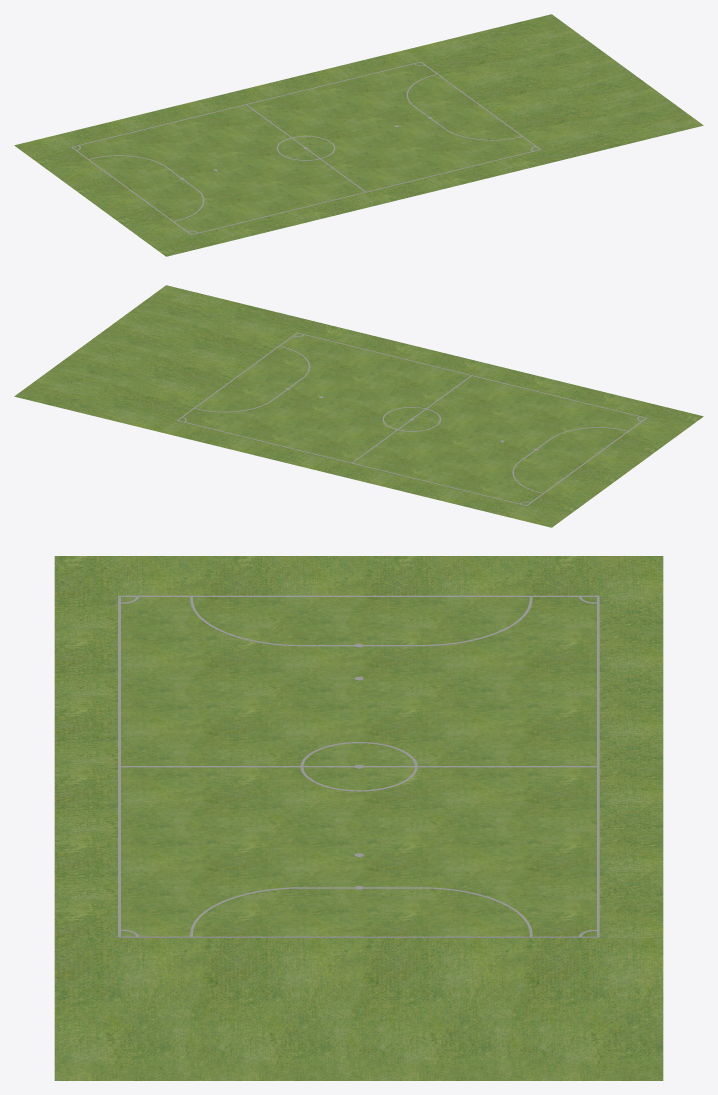
File: Floor.fbx
3 views of the same model, one above another, from view 1: azimuth 30°, elevation 25°; view 2: azimuth 150°, elevation 25°; view 3: azimuth 270°, elevation 25° (orthographic). The views are drawn at different scales.
Parts seen in each view (by area): view 1: MINI_football_003.001; view 2: MINI_football_003.001; view 3: MINI_football_003.001.
Boxes of the visible parts, x1=… form: MINI_football_003.001: x1=14, y1=14, x2=703, y2=256; MINI_football_003.001: x1=14, y1=285, x2=703, y2=527; MINI_football_003.001: x1=54, y1=556, x2=663, y2=1080.
Size of the model in its own units: 3864 by 0.7501 by 1894.
